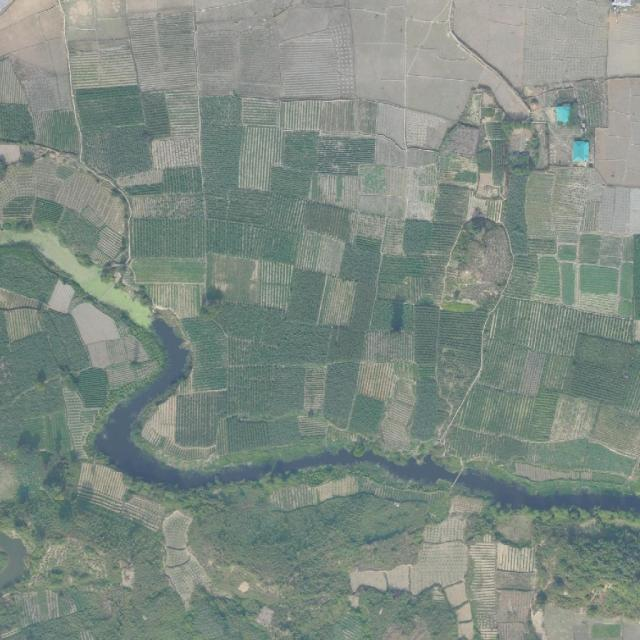agricultural_land: (0, 248, 158, 408), (0, 0, 81, 160), (69, 456, 175, 533), (269, 471, 442, 512), (149, 507, 216, 612), (81, 123, 154, 181), (62, 383, 106, 460), (63, 0, 129, 51), (408, 541, 469, 595), (157, 12, 199, 90), (70, 44, 138, 91), (77, 87, 144, 134), (131, 219, 205, 258), (128, 16, 164, 93), (470, 540, 496, 639), (144, 282, 205, 319), (131, 194, 203, 220), (132, 259, 205, 284), (151, 135, 201, 170), (141, 396, 176, 445), (165, 90, 199, 137), (421, 514, 469, 546), (140, 90, 170, 140), (0, 104, 37, 142), (0, 57, 28, 104), (496, 590, 533, 625), (161, 166, 203, 195), (496, 543, 535, 572), (426, 495, 457, 525), (116, 169, 164, 188), (350, 570, 388, 592), (496, 571, 536, 591), (449, 496, 484, 517), (384, 564, 411, 589), (444, 581, 468, 609), (155, 0, 193, 17), (127, 0, 156, 17), (124, 184, 163, 195), (454, 602, 472, 624), (457, 621, 475, 640), (126, 0, 138, 14)
building: (572, 140, 590, 162), (556, 106, 570, 124)
greenland: (534, 508, 639, 618), (468, 501, 496, 542), (497, 514, 533, 542)
wetland: (89, 391, 356, 529), (92, 314, 191, 485), (372, 455, 456, 483)
